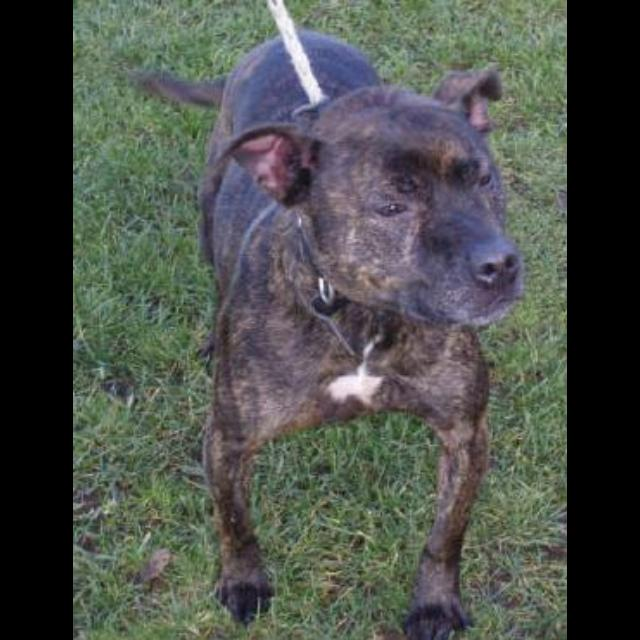staffford: (127, 29, 528, 639)
